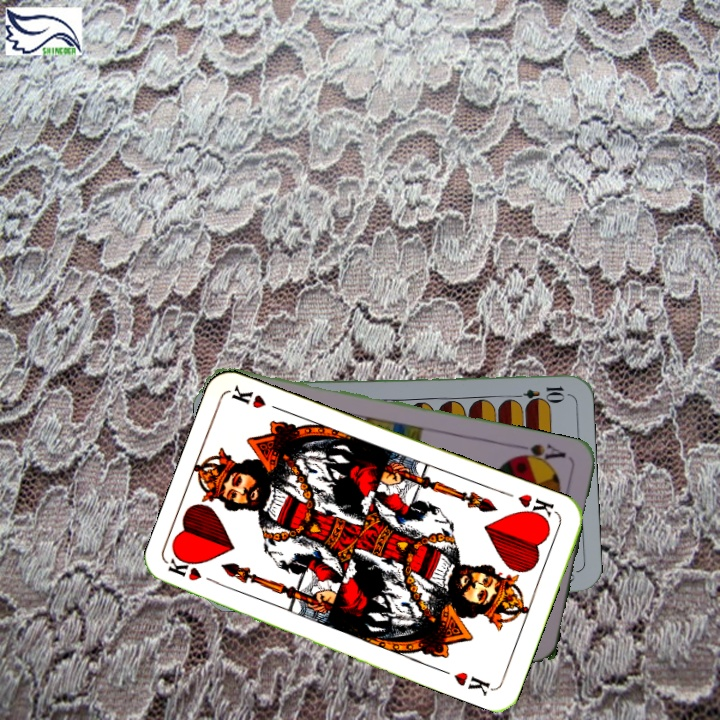E10: (508, 382, 567, 403)
HK: (165, 555, 223, 588), (514, 489, 559, 525)
SA: (510, 439, 569, 468)
